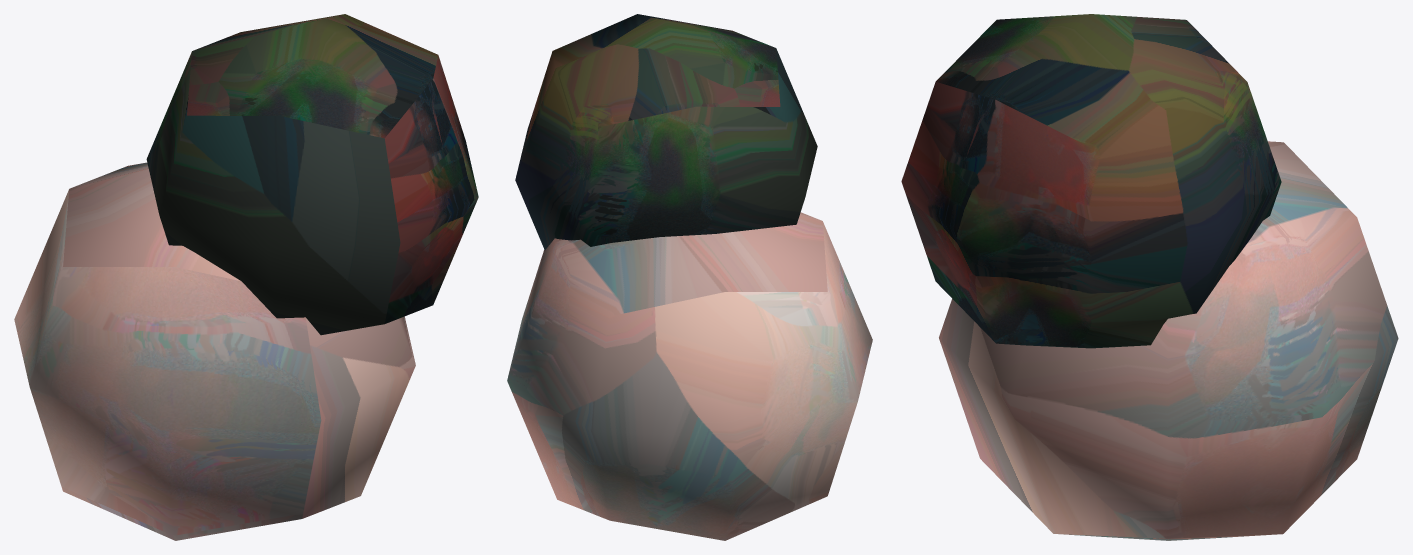
The model's file is mushroom_VAR3_3.fbx.
3 renders of one model, left to right at view 1: azimuth 30°, elevation 25°; view 2: azimuth 150°, elevation 25°; view 3: azimuth 270°, elevation 25°, orthographic. The views are drawn at different scales.
Visible parts, largest first — view 1: Cube.001, Cube.003; view 2: Cube.001, Cube.003; view 3: Cube.003, Cube.001.
Part boxes in pixels (x1=…): Cube.001: x1=14, y1=162, x2=415, y2=540; Cube.003: x1=146, y1=14, x2=478, y2=335; Cube.001: x1=507, y1=212, x2=872, y2=540; Cube.003: x1=515, y1=14, x2=817, y2=250; Cube.003: x1=901, y1=14, x2=1281, y2=348; Cube.001: x1=939, y1=141, x2=1398, y2=540.
Bounding box in the file's own units: 255 × 317 × 255.
